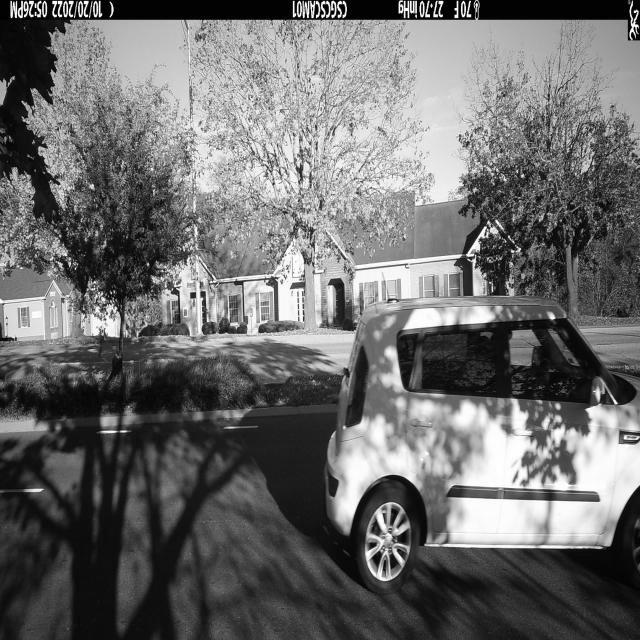Hatchback: (323, 296, 640, 590)
